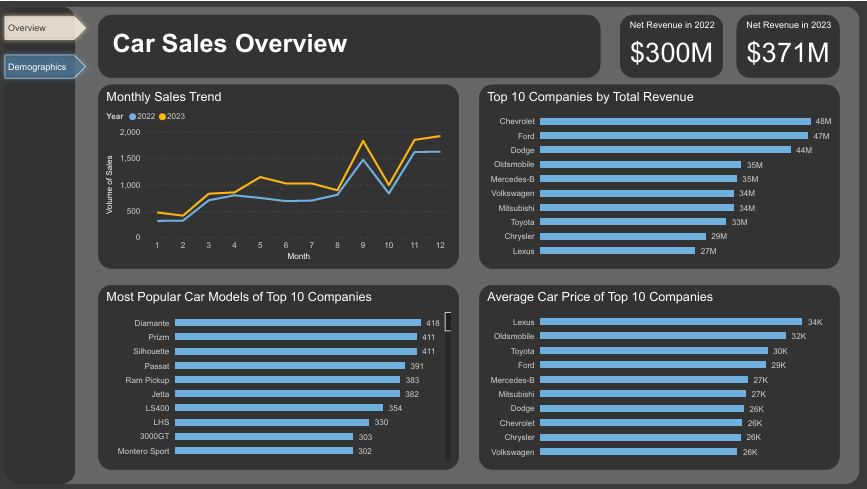

What the dashboard file says about the page in this screenshot:
{"tool":"powerbi","page":{"name":"Overview","canvas":[1280,720],"ordinal":0},"visuals":[{"type":"shape","box":[6.8,7.8,1262.5,705.2],"z":1000},{"type":"shape","box":[6.8,7.8,105,704.2],"z":1500},{"type":"lineChart","title":"Monthly Sales Trend","fields":{"Category":["Car Sales.Month"],"Y":["CountNonNull(Car Sales.Month)"],"Series":["Car Sales.Year"]},"box":[145.9,122.6,532,272.3],"z":2000},{"type":"card","title":"Net Revenue in 2022","fields":{"Values":["Sum(Car Sales.Price)"]},"box":[916.2,20.4,151.7,92.4],"z":3000},{"type":"textbox","title":"Car Sales Overview","box":[145.9,20.4,741.2,92.4],"z":4000},{"type":"card","title":"Net Revenue in 2023","fields":{"Values":["Sum(Car Sales.Price)"]},"box":[1088.4,20.4,151.7,92.4],"z":5000},{"type":"barChart","title":"Top 10 Companies by Total Revenue","fields":{"Category":["Car Sales.Company"],"Y":["Sum(Car Sales.Price)"]},"box":[708.1,122.6,532,272.3],"z":6000},{"type":"barChart","title":"Average Car Price of Top 10 Companies","fields":{"Category":["Car Sales.Company"],"Y":["Avg(Car Sales.Price)"]},"box":[708.1,419.2,532,272.3],"z":7000},{"type":"barChart","title":"Most Popular Car Models of Top 10 Companies","fields":{"Category":["Car Sales.Model"],"Y":["CountNonNull(Car Sales.Model)"]},"box":[145.9,419.2,532,272.3],"z":8000},{"type":"actionButton","box":[0,0,100,40],"z":9000},{"type":"pageNavigator","box":[0,122.6,136.2,109.9],"z":9001}]}

Visuals, with their boxes in screenshot pixels (x1, y1, x2, y2), scaled from the page's 1280x720 canvas onto the 867x489 screenshot:
shape: x1=5, y1=5, x2=860, y2=484
shape: x1=5, y1=5, x2=76, y2=484
"Monthly Sales Trend" lineChart: x1=99, y1=83, x2=459, y2=268
"Net Revenue in 2022" card: x1=621, y1=14, x2=723, y2=77
"Car Sales Overview" textbox: x1=99, y1=14, x2=601, y2=77
"Net Revenue in 2023" card: x1=737, y1=14, x2=840, y2=77
"Top 10 Companies by Total Revenue" barChart: x1=480, y1=83, x2=840, y2=268
"Average Car Price of Top 10 Companies" barChart: x1=480, y1=285, x2=840, y2=470
"Most Popular Car Models of Top 10 Companies" barChart: x1=99, y1=285, x2=459, y2=470
actionButton: x1=0, y1=0, x2=68, y2=27
pageNavigator: x1=0, y1=83, x2=92, y2=158
